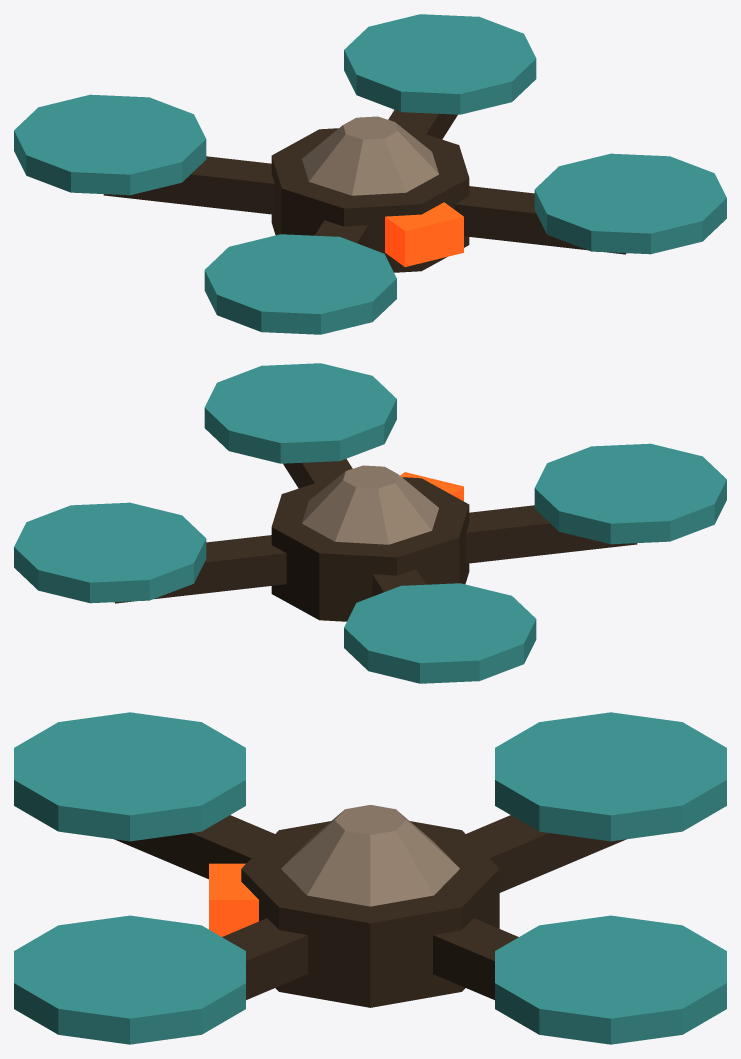
Rendered from drone.glb.
3 views of the same model, one above another, from view 1: azimuth 30°, elevation 25°; view 2: azimuth 150°, elevation 25°; view 3: azimuth 270°, elevation 25° (orthographic). The views are drawn at different scales.
Visible parts, largest first — view 1: Rot3, Rot6, Rot4, Rot5, Body, Arm2, Dome, Eye7, Arm1; view 2: Rot4, Rot5, Rot3, Rot6, Body, Arm1, Dome, Arm2; view 3: Rot3, Rot4, Rot5, Rot6, Body, Dome, Arm2, Arm1, Eye7.
Boxes of the visible parts, bbox=[...] form: Rot3: bbox=[204, 234, 396, 334]; Rot6: bbox=[344, 14, 536, 114]; Rot4: bbox=[14, 94, 206, 195]; Rot5: bbox=[534, 153, 726, 254]; Body: bbox=[271, 126, 469, 272]; Arm2: bbox=[103, 156, 625, 254]; Dome: bbox=[302, 116, 438, 195]; Eye7: bbox=[385, 202, 463, 266]; Arm1: bbox=[315, 109, 457, 247]; Rot4: bbox=[344, 583, 536, 683]; Rot5: bbox=[204, 363, 396, 463]; Rot3: bbox=[534, 443, 726, 544]; Rot6: bbox=[14, 502, 206, 603]; Body: bbox=[271, 475, 469, 621]; Arm1: bbox=[115, 505, 637, 603]; Dome: bbox=[302, 465, 438, 544]; Arm2: bbox=[283, 458, 425, 596]; Rot3: bbox=[14, 712, 245, 841]; Rot4: bbox=[495, 712, 726, 841]; Rot5: bbox=[14, 915, 245, 1044]; Rot6: bbox=[495, 915, 726, 1044]; Body: bbox=[241, 821, 499, 1007]; Dome: bbox=[281, 805, 459, 906]; Arm2: bbox=[222, 815, 626, 999]; Arm1: bbox=[114, 815, 518, 999]; Eye7: bbox=[209, 863, 258, 936].
Size of the model in its own units: 1.01 by 0.205 by 0.9934.
